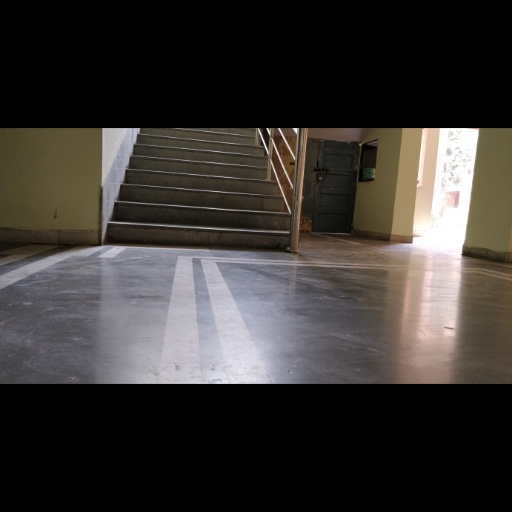Stairs: (107, 129, 290, 249)
